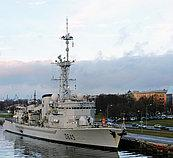MIL_Ship: (3, 60, 125, 148)
